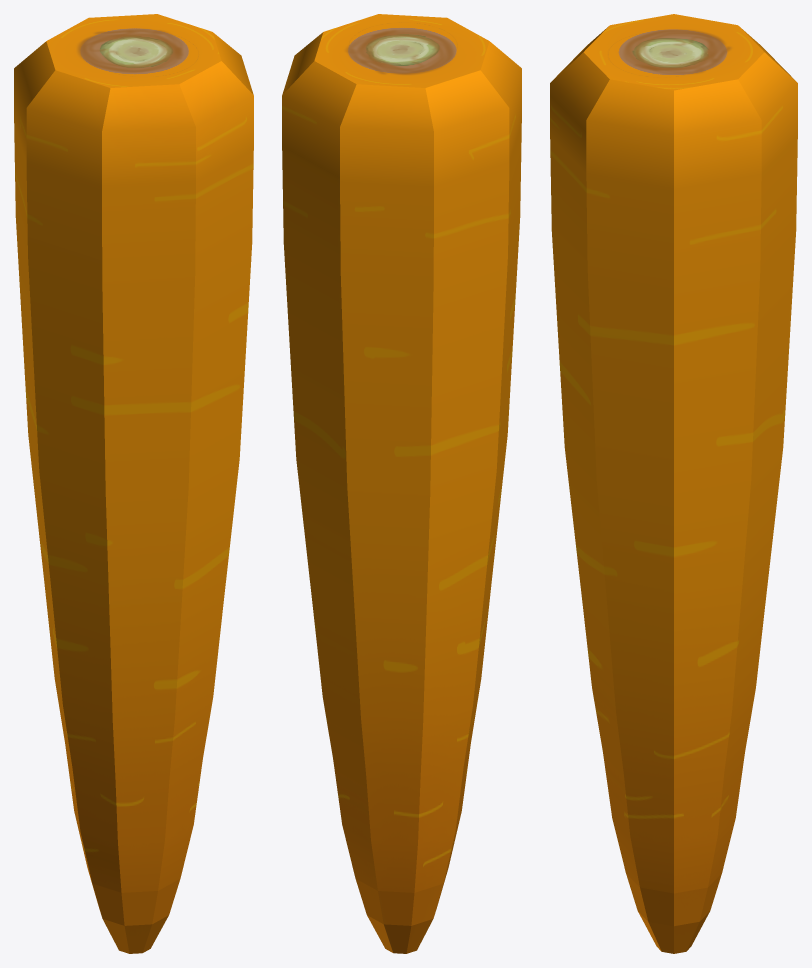
Rendered from carrot.fbx.
3 views of the same model, side by side, from view 1: azimuth 30°, elevation 25°; view 2: azimuth 150°, elevation 25°; view 3: azimuth 270°, elevation 25° (orthographic).
Parts seen in each view (by area): view 1: caloto; view 2: caloto; view 3: caloto.
Part boxes in pixels (box(x1,y1,x2,y2)): caloto: box(14, 14, 253, 953); caloto: box(282, 14, 521, 953); caloto: box(550, 14, 797, 953).
Size of the model in its own units: 8.21 by 32.69 by 8.21.
1 material, 1 textured.
